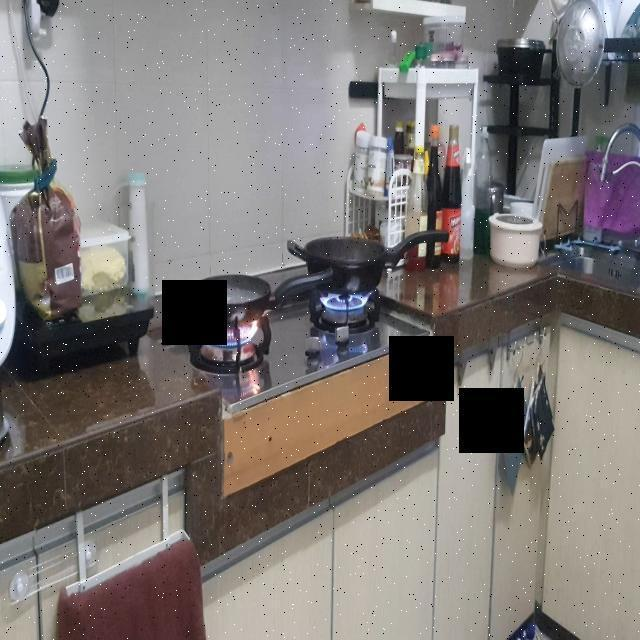Flame: (205, 318, 265, 354), (319, 290, 366, 319)
Pan: (281, 228, 459, 292), (196, 274, 331, 310), (485, 208, 552, 278), (500, 31, 552, 87)
